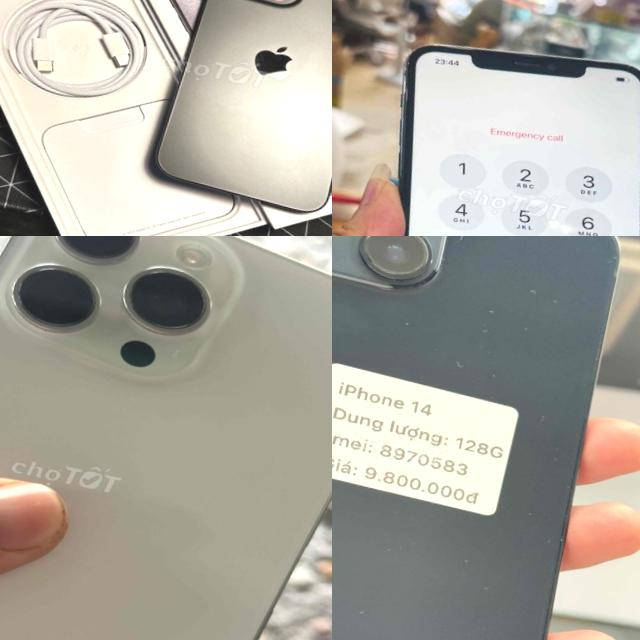gen_11: (332, 11, 640, 236)
gen_14: (332, 236, 640, 640)
gen_15: (0, 236, 332, 640), (128, 0, 332, 236)
scratch: (346, 236, 446, 320), (438, 358, 508, 386), (598, 250, 638, 296), (469, 299, 504, 347), (354, 604, 396, 640), (454, 548, 486, 592), (522, 282, 568, 312), (526, 406, 556, 444), (518, 318, 542, 339), (480, 580, 500, 604), (455, 236, 474, 254), (547, 236, 567, 252)
